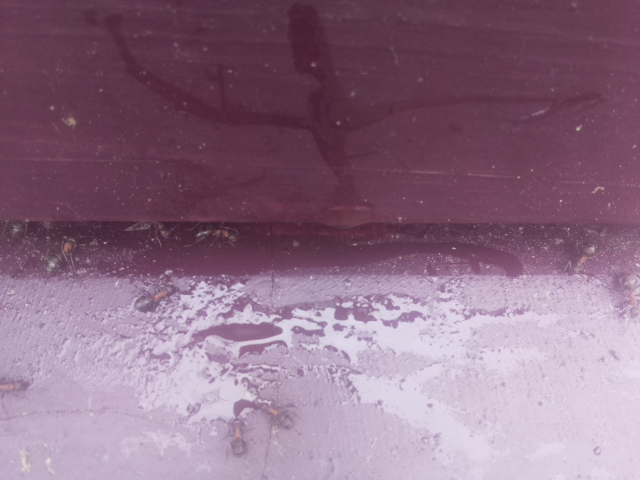ant: (38, 226, 84, 282), (128, 275, 185, 320), (236, 392, 297, 433), (222, 411, 254, 462), (617, 270, 639, 326), (192, 222, 241, 246), (572, 238, 595, 274)
